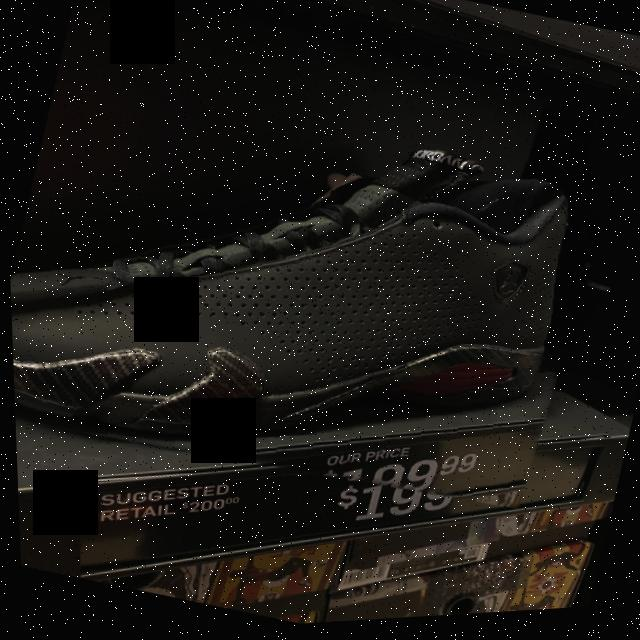shoe: (2, 41, 625, 560)
